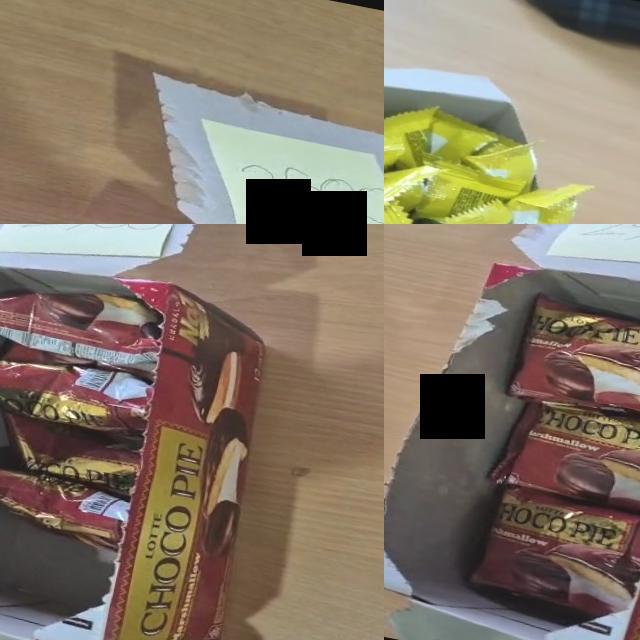Ahh: (416, 164, 521, 220), (420, 110, 497, 162), (507, 184, 592, 224), (464, 145, 536, 188), (384, 108, 436, 166), (384, 167, 436, 212), (420, 201, 509, 224)
Chocopie: (462, 480, 640, 631), (490, 388, 640, 521), (508, 285, 640, 433), (0, 285, 161, 371), (6, 415, 139, 496), (0, 361, 150, 432), (0, 470, 126, 549)
